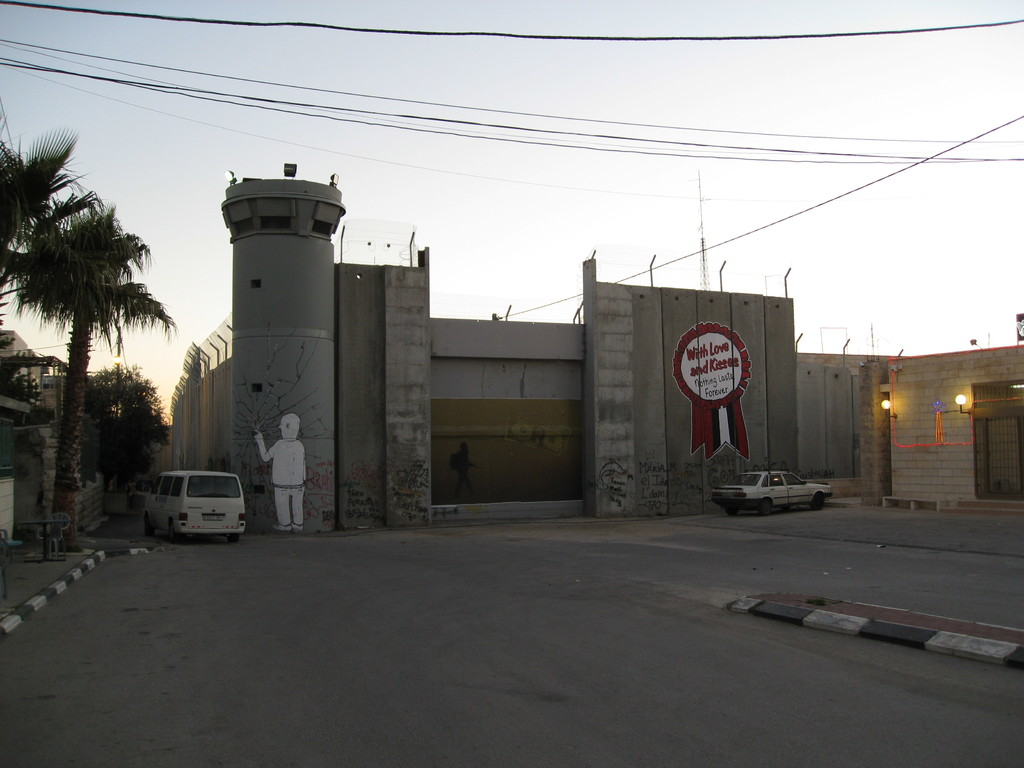Tree: (7, 113, 167, 524), (0, 123, 99, 334), (81, 362, 168, 535)
